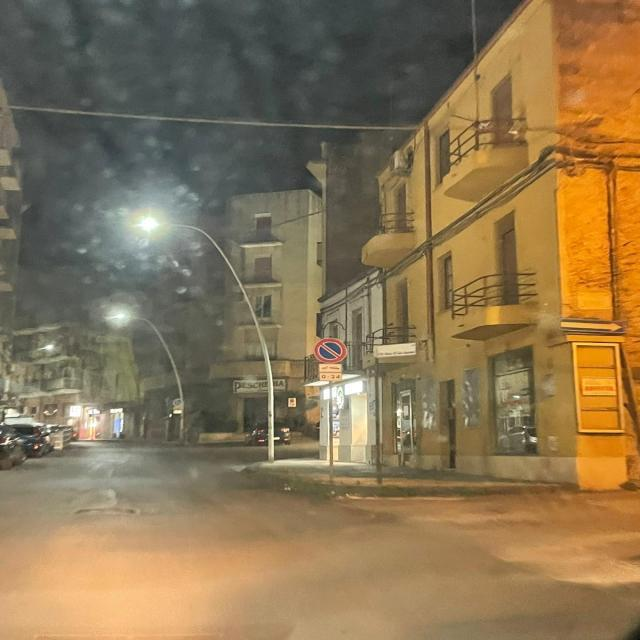forb_stopping: (314, 337, 348, 363)
